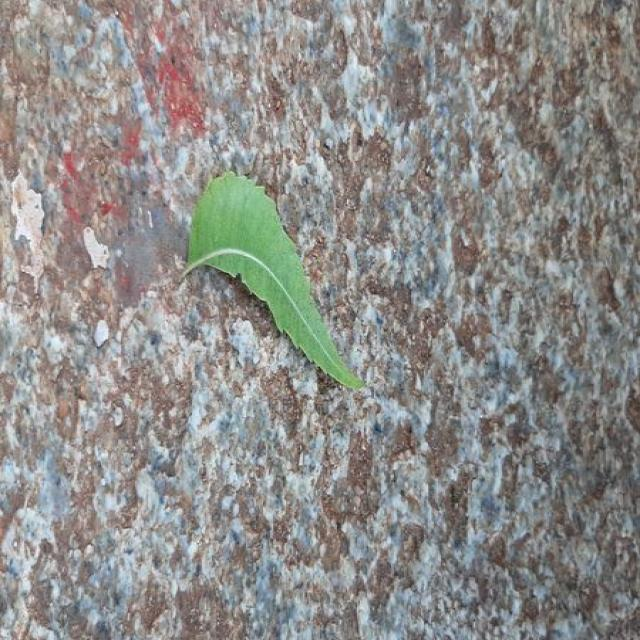neem: (183, 172, 363, 389)
